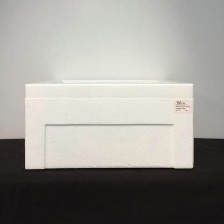foam_box: (18, 74, 199, 173)
